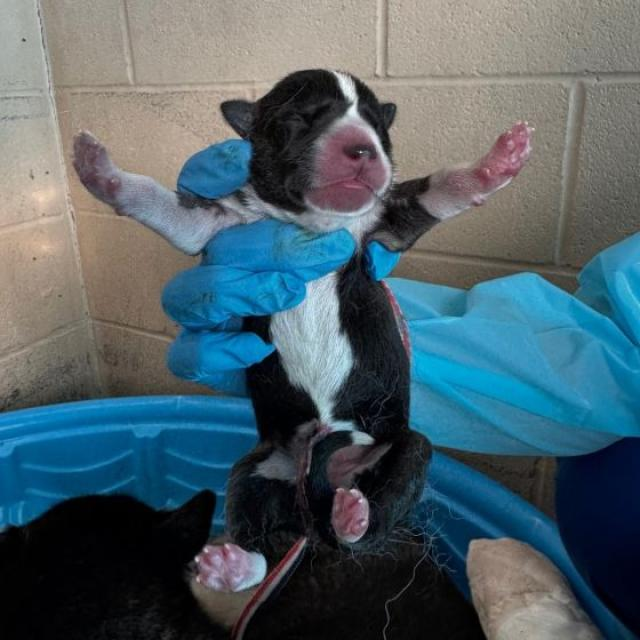siberian_husky_dog: (217, 62, 407, 234)
